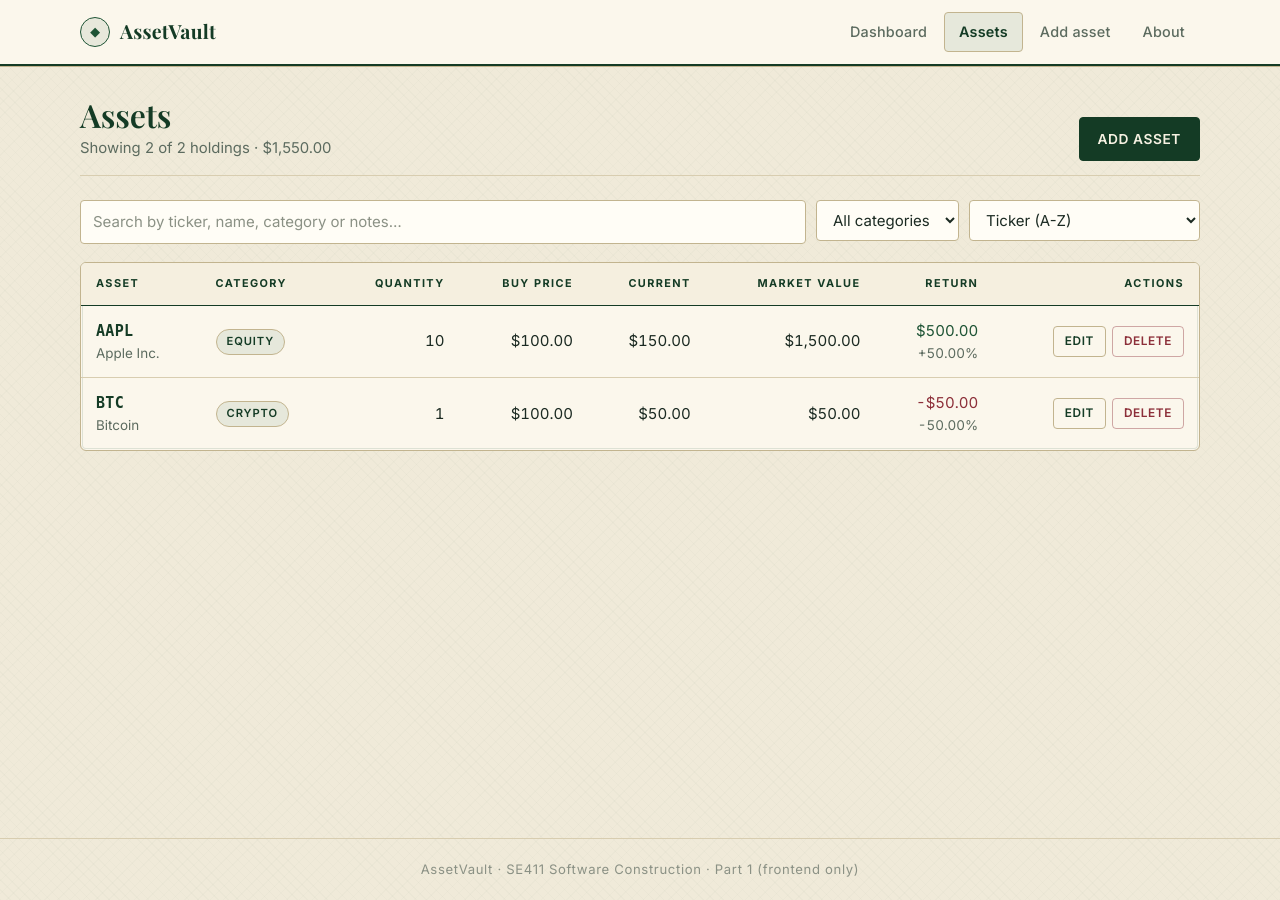
Test: deleting an asset › removes the asset once confirmed
The width and height of the screenshot is (1280, 900).
Click the button with aria-label "Delete AAPL" at (1148, 341), box [1112, 326, 1184, 357]
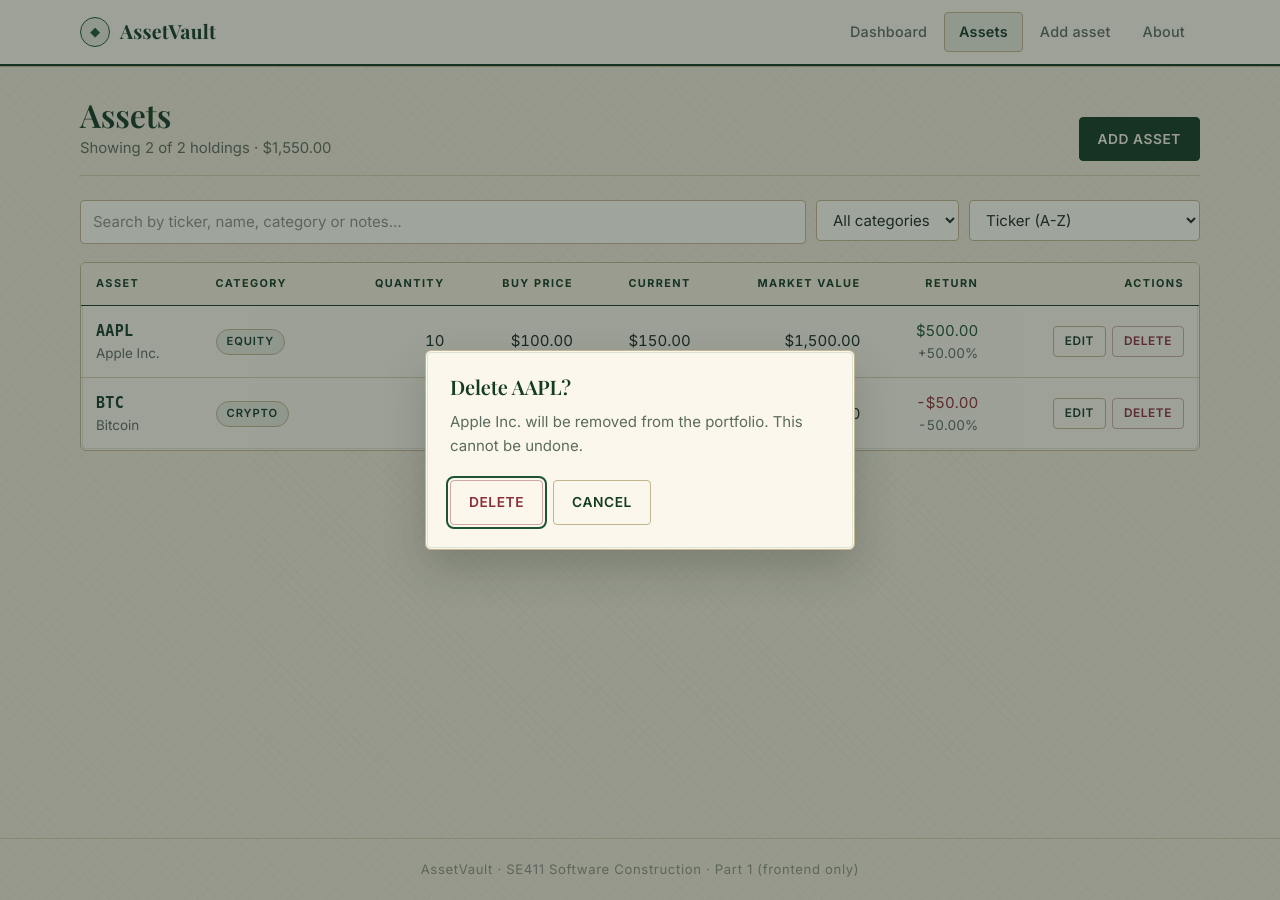
Click the button "Delete" at (497, 502), box [450, 480, 543, 524]
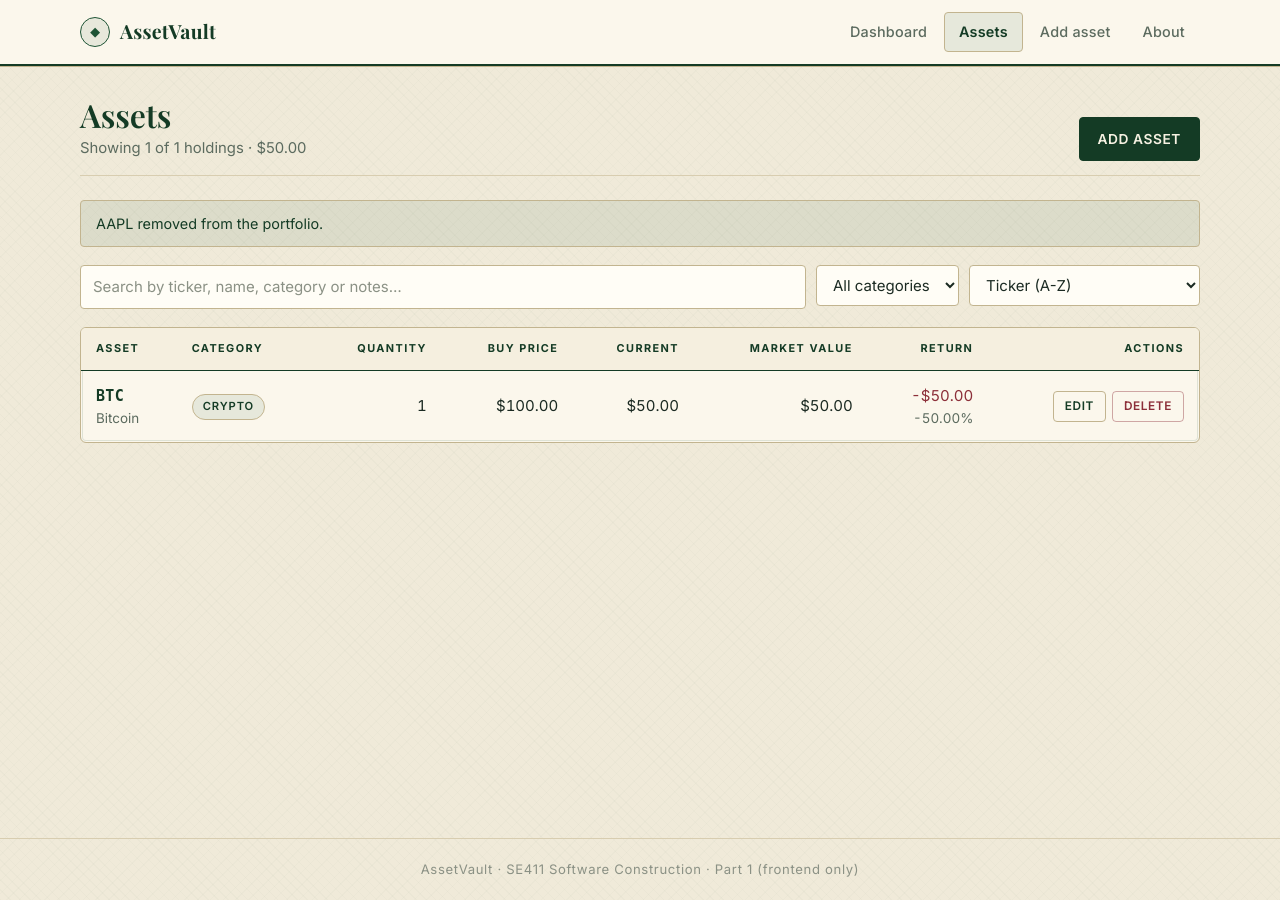
Expected: the text "BTC" is shown, [96, 387, 124, 405]
Now the text "AAPL removed from the portfolio." is shown, box [80, 200, 1200, 247]
